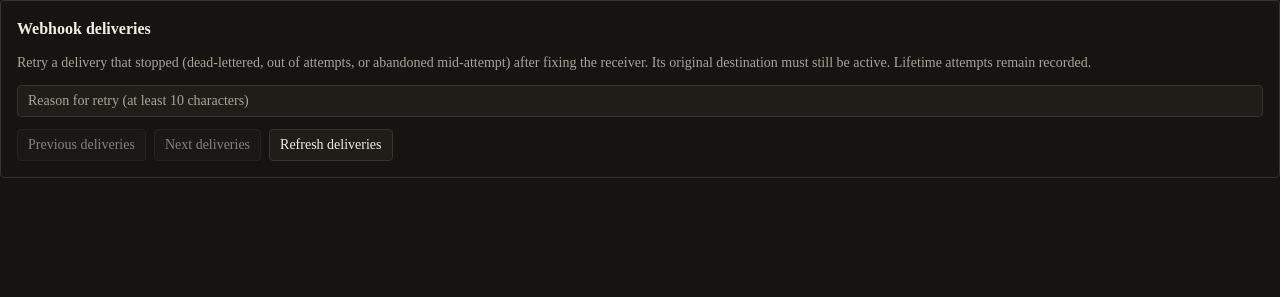
Test: does not let an older initial read overwrite a newer refresh
What coordinates should you click on to do the following:
click the button "Refresh deliveries"
I would click on:
 (331, 145)
Its box is [269,129,393,161].
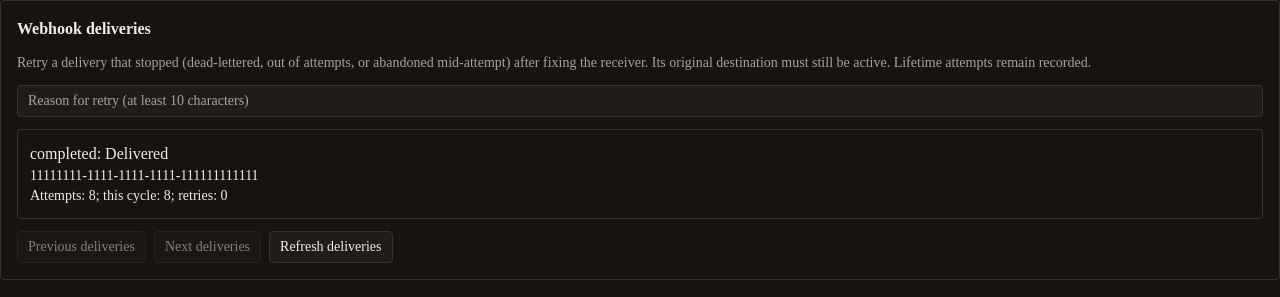
Now the text "completed: Delivered" is shown, box [30,145,168,162]
